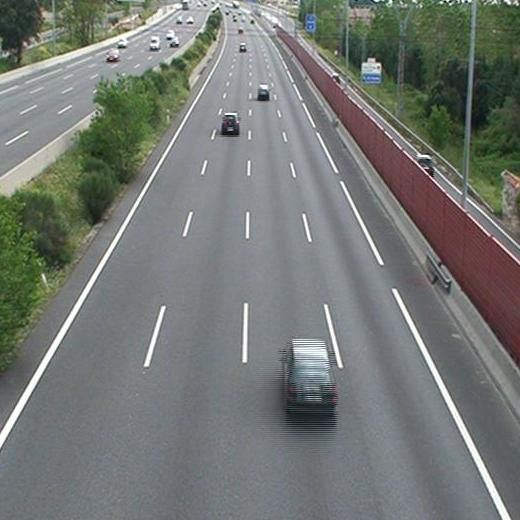car: (282, 340, 335, 409), (221, 113, 239, 132), (257, 84, 269, 97)
